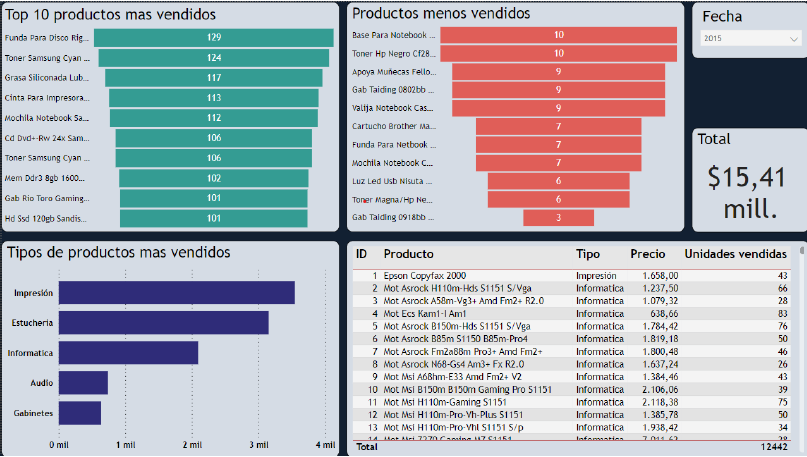

The page's visual inventory and layout, read from the dashboard file:
{"tool":"powerbi","page":{"name":"Productos","canvas":[1280,720],"ordinal":2},"visuals":[{"type":"funnel","title":"Top 10 productos mas vendidos ","fields":{"Y":["Sum(fact_ventas.Cantidad)"],"Category":["dim_productos.Producto"]},"box":[0,0,535,363.8],"z":0},{"type":"clusteredBarChart","title":"Tipos de productos mas vendidos","fields":{"Category":["dim_tipoproducto.TipoProducto"],"Y":["Sum(fact_ventas.Cantidad)"]},"box":[0,377.5,535.5,342.5],"z":1000},{"type":"tableEx","fields":{"Values":["dim_productos.IdProducto","dim_productos.Producto","dim_tipoproducto.TipoProducto","dim_productos.Precio","Sum(fact_ventas.Cantidad)"]},"box":[546.3,377.5,733.3,342.5],"z":2000},{"type":"slicer","title":"Fecha","fields":{"Values":["dim_calendario.Fecha.Variación.Jerarquía de fechas.Año","dim_calendario.Fecha.Variación.Jerarquía de fechas.Trimestre","dim_calendario.Fecha.Variación.Jerarquía de fechas.Mes"]},"box":[1091.5,80.8,188.1,101.3],"z":3000},{"type":"funnel","title":"Productos menos vendidos","fields":{"Category":["dim_productos.Producto"],"Y":["Sum(fact_ventas.Cantidad)"]},"box":[546.3,0,535,364.2],"z":4000},{"type":"card","title":"Total","fields":{"Values":["fact_ventas.Ingresos del año"]},"box":[1092.7,199,186.9,165.2],"z":5000},{"type":"shape","box":[1092.7,0,186.9,67.5],"z":6001}]}

Visuals, with their boxes in screenshot pixels (x1, y1, x2, y2), scaled from the page's 1280x720 canvas onto the 807x457 screenshot:
"Top 10 productos mas vendidos " funnel: [0,0,337,231]
"Tipos de productos mas vendidos" clusteredBarChart: [0,240,338,456]
tableEx - dim_productos.IdProducto x dim_productos.Producto: [344,240,806,456]
"Fecha" slicer: [688,51,806,116]
"Productos menos vendidos" funnel: [344,0,682,231]
"Total" card: [689,126,806,231]
shape: [689,0,806,43]
